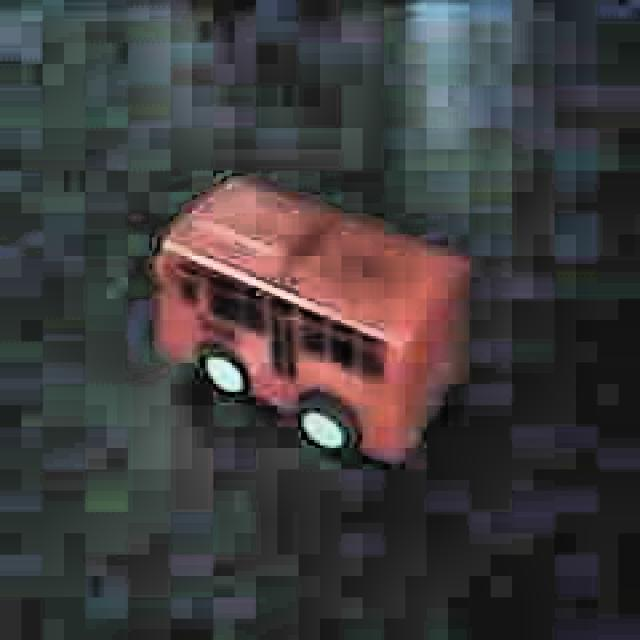bus: (140, 162, 480, 476)
